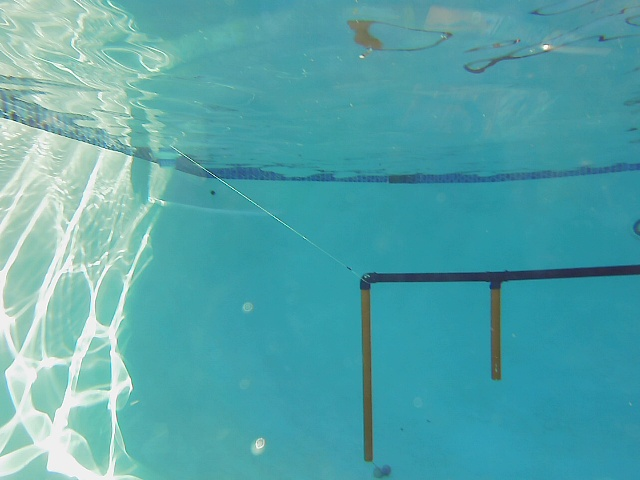Gate: (359, 283, 378, 465), (487, 281, 505, 381)
